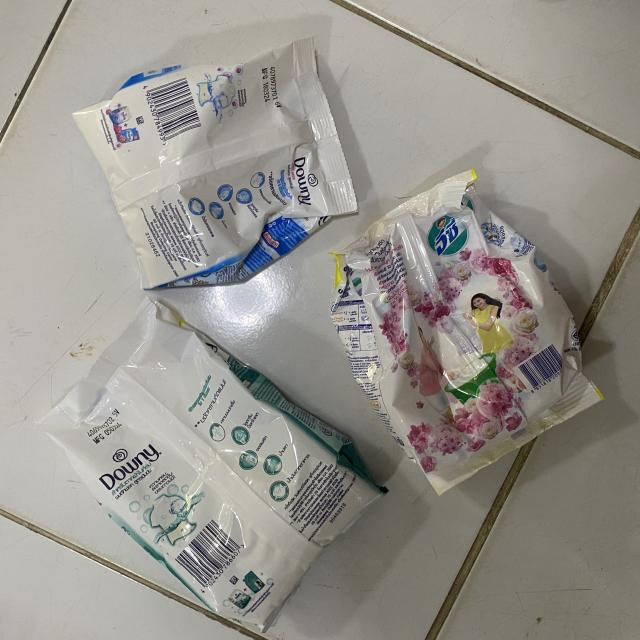plastik: (38, 299, 385, 630), (330, 171, 602, 494), (74, 38, 358, 289)
